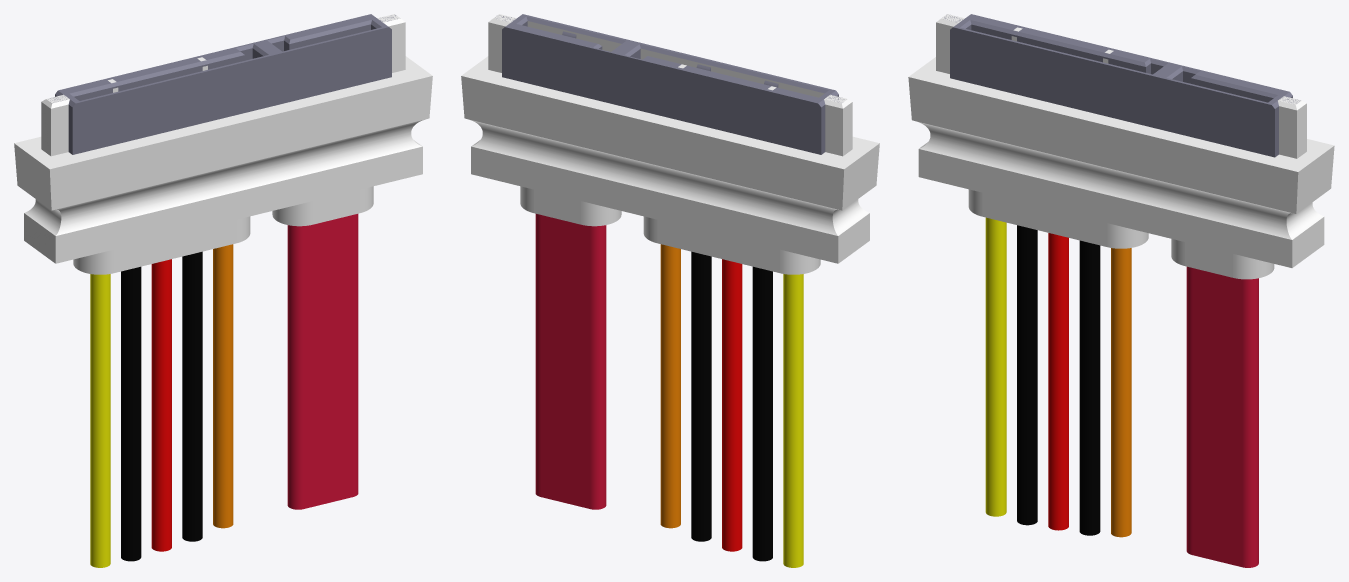
File: Grouper_6.dae
3 renders of one model, left to right at view 1: azimuth 30°, elevation 25°; view 2: azimuth 150°, elevation 25°; view 3: azimuth 330°, elevation 25°, orthographic.
Parts seen in each view (by area): view 1: SketchUp (×14); view 2: SketchUp (×16); view 3: SketchUp (×14).
Boxes of the visible parts, x1,y1,x2,y2 form: SketchUp (×14): [14, 14, 432, 567]; SketchUp (×16): [461, 14, 879, 567]; SketchUp (×14): [908, 14, 1334, 567].
Bounding box in the file's own units: 1709 × 276 × 2028.
